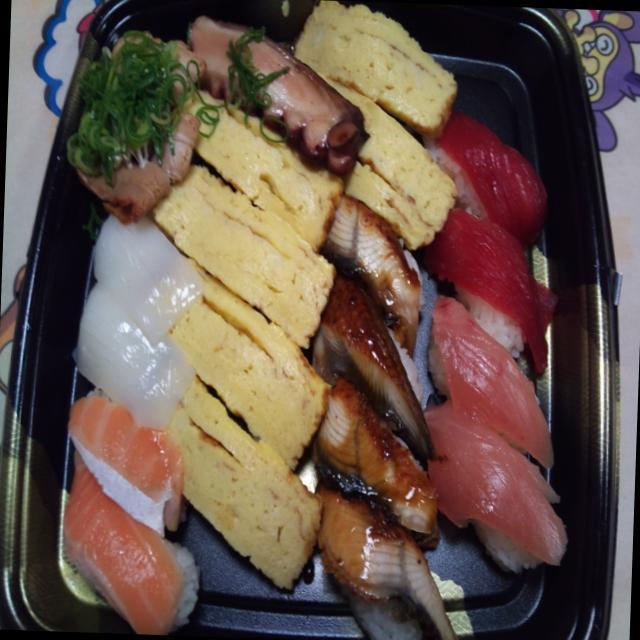Sushi: (428, 120, 578, 568), (66, 237, 178, 622)
